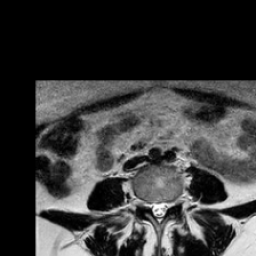CCS_normal: (155, 191, 161, 230)
LFS_stenosis: (169, 188, 176, 213)
LLS_normal: (161, 192, 169, 221)
RFS_normal: (140, 190, 148, 215)
RLS_normal: (148, 193, 155, 221)
